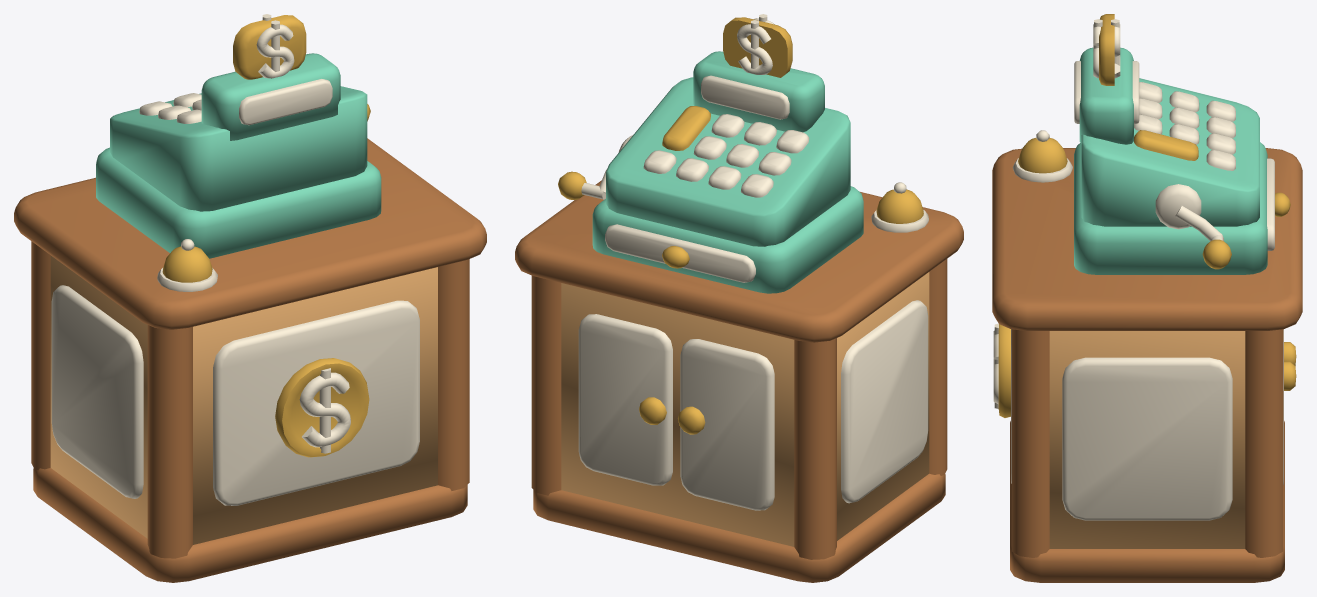
Rendered from ShopRegister.fbx.
The picture shows the model from 3 angles, left to right: view 1: azimuth 30°, elevation 25°; view 2: azimuth 150°, elevation 25°; view 3: azimuth 270°, elevation 25°; orthographic projection. The views are drawn at different scales.
Visible parts, largest first — view 1: ShopRegister; view 2: ShopRegister; view 3: ShopRegister.
Boxes of the visible parts, x1=… form: ShopRegister: x1=14, y1=14, x2=486, y2=582; ShopRegister: x1=515, y1=14, x2=963, y2=582; ShopRegister: x1=992, y1=14, x2=1302, y2=582.
Size of the model in its own units: 1 by 1.38 by 0.8.
